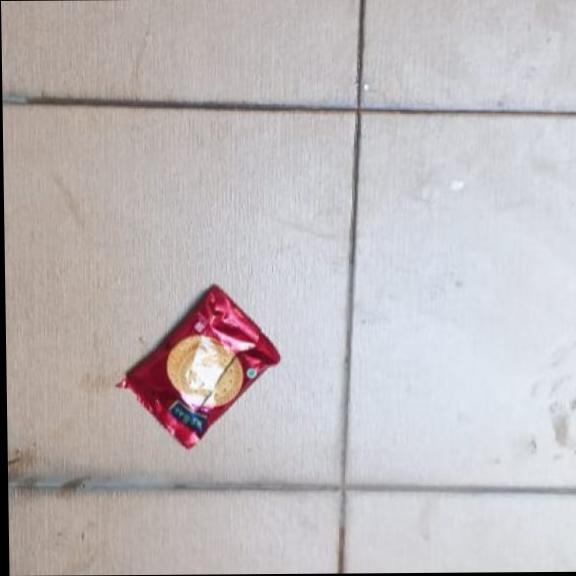Plastik: (110, 283, 283, 448)
